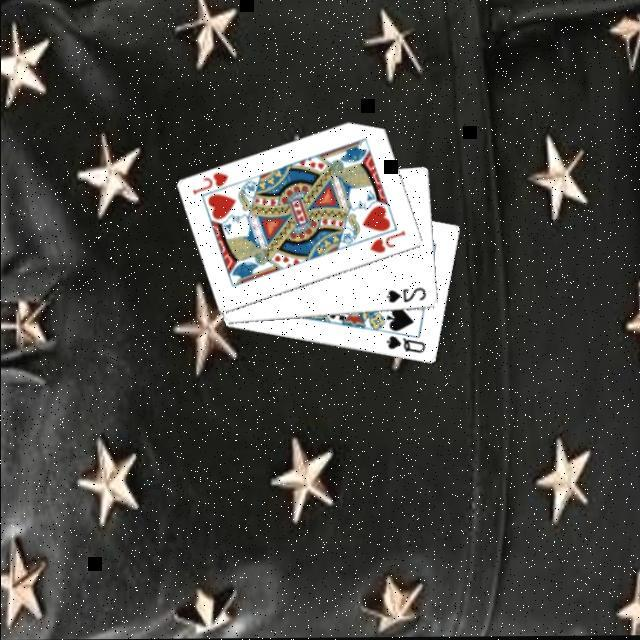2S: (382, 284, 428, 305)
JH: (365, 228, 407, 256), (188, 169, 230, 197)
QS: (381, 333, 427, 357)
